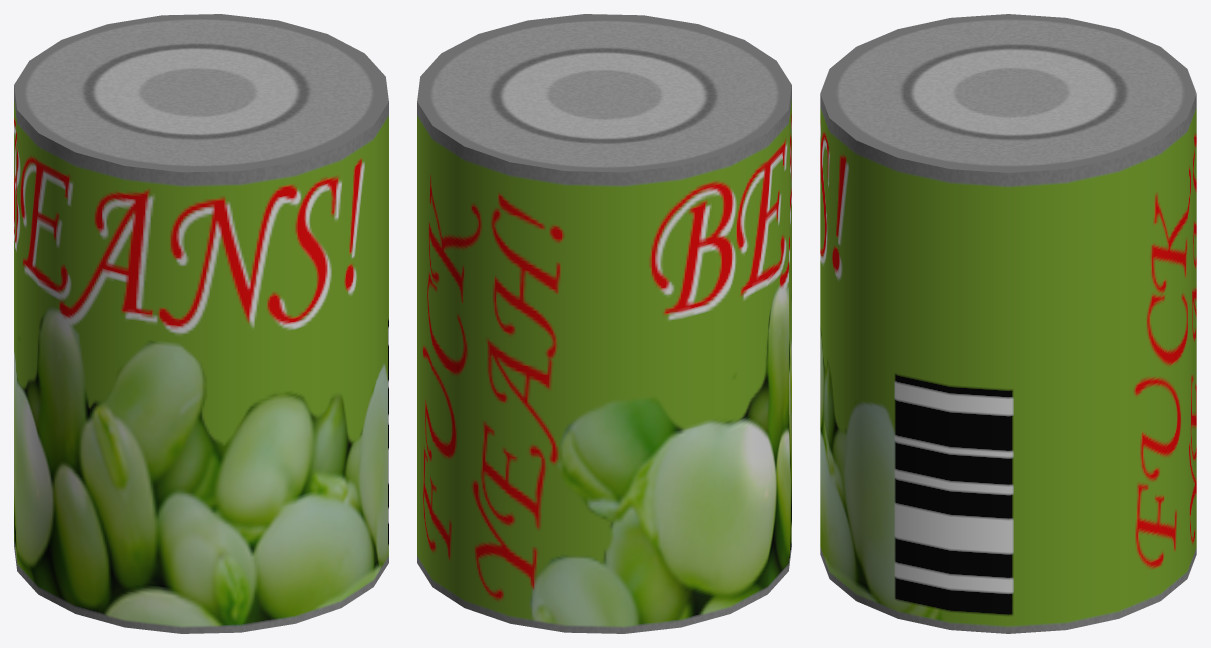
The model's file is Tin_Can_Beans.fbx.
The picture shows the model from 3 angles, left to right: view 1: azimuth 30°, elevation 25°; view 2: azimuth 150°, elevation 25°; view 3: azimuth 270°, elevation 25°; orthographic projection.
Visible parts, largest first — view 1: pCylinder1; view 2: pCylinder1; view 3: pCylinder1.
Boxes of the visible parts, <box> form: pCylinder1: <box>14,14,388,633</box>; pCylinder1: <box>417,14,791,633</box>; pCylinder1: <box>820,14,1196,633</box>.
Bounding box in the file's own units: 20 × 27.02 × 20.
Materials: 1 (1 with a texture image).
